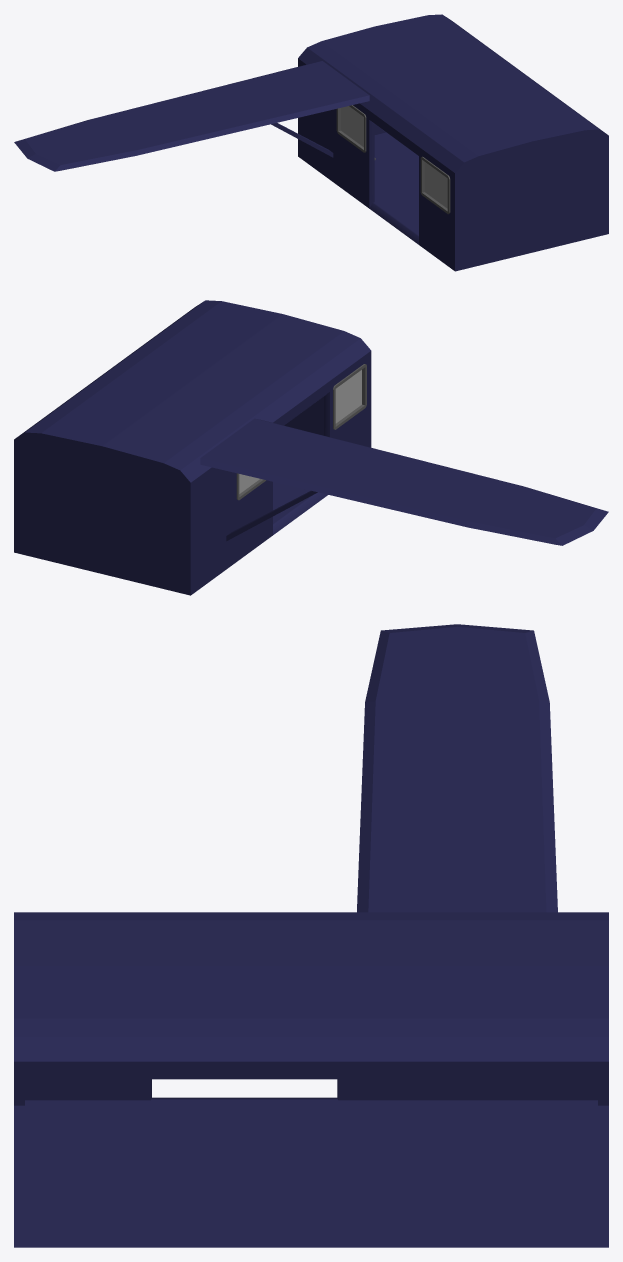
File: Avião.fbx
3 renders of one model, top to bottom at view 1: azimuth 30°, elevation 25°; view 2: azimuth 150°, elevation 25°; view 3: azimuth 270°, elevation 25°, orthographic. The views are drawn at different scales.
Parts seen in each view (by area): view 1: polySurface22, polySurface23, polySurface13, polySurface19, polySurface20; view 2: polySurface22, polySurface23, polySurface13, polySurface19, polySurface20; view 3: polySurface22, polySurface23.
Boxes of the visible parts, x1,y1,x2,y2 form: polySurface22: (298, 14, 608, 271); polySurface23: (14, 61, 369, 171); polySurface13: (341, 106, 447, 208); polySurface19: (336, 105, 450, 213); polySurface20: (271, 123, 333, 157); polySurface22: (14, 300, 371, 595); polySurface23: (200, 418, 608, 545); polySurface13: (239, 370, 361, 493); polySurface19: (236, 364, 366, 500); polySurface20: (226, 490, 317, 541); polySurface22: (14, 912, 608, 1247); polySurface23: (357, 624, 557, 912).
Size of the model in its own units: 680 by 156 by 399.
